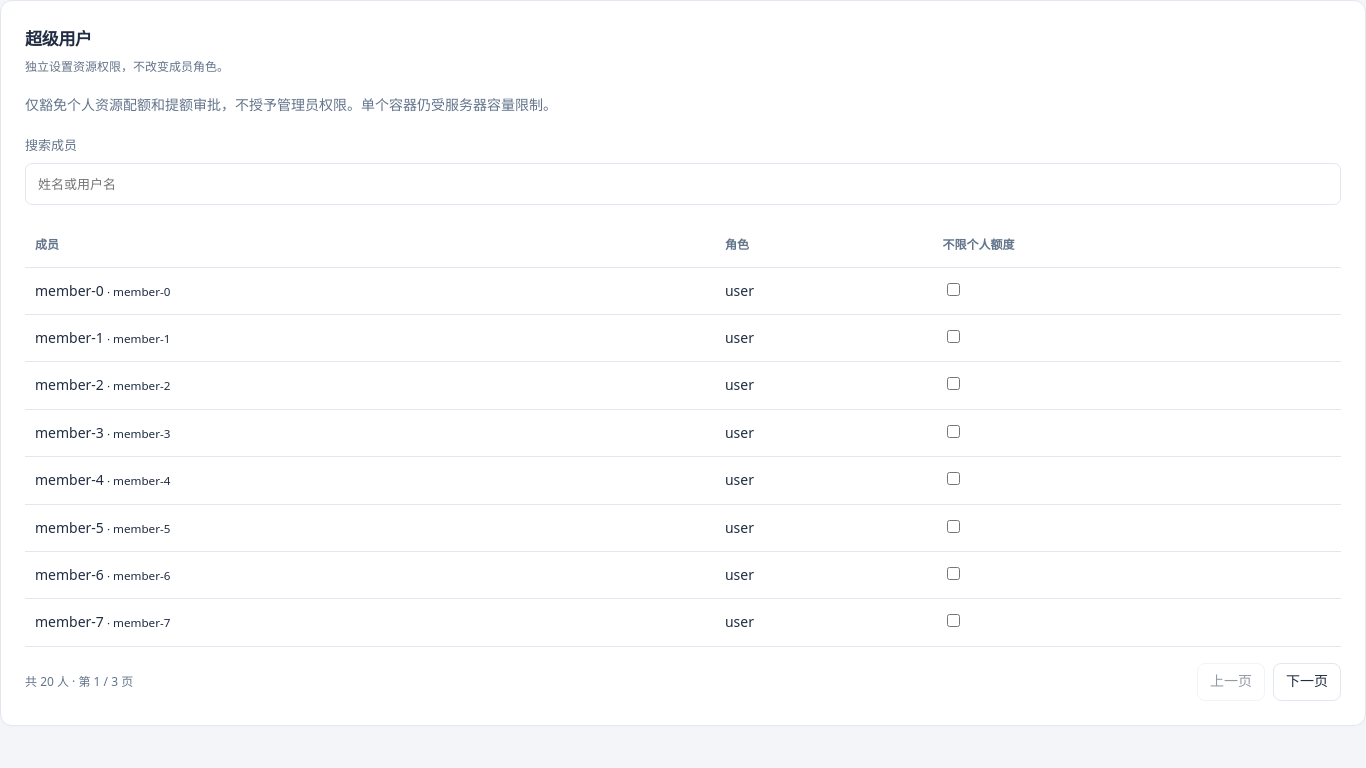
Test: superuser dialog searches across pages without rendering quota form
The image size is (1366, 768).
Check: the checkbox named "member-0超级用户" is shown, box [947, 282, 960, 296]
Click the button "下一页" at point(1307, 682), box [1273, 663, 1341, 701]
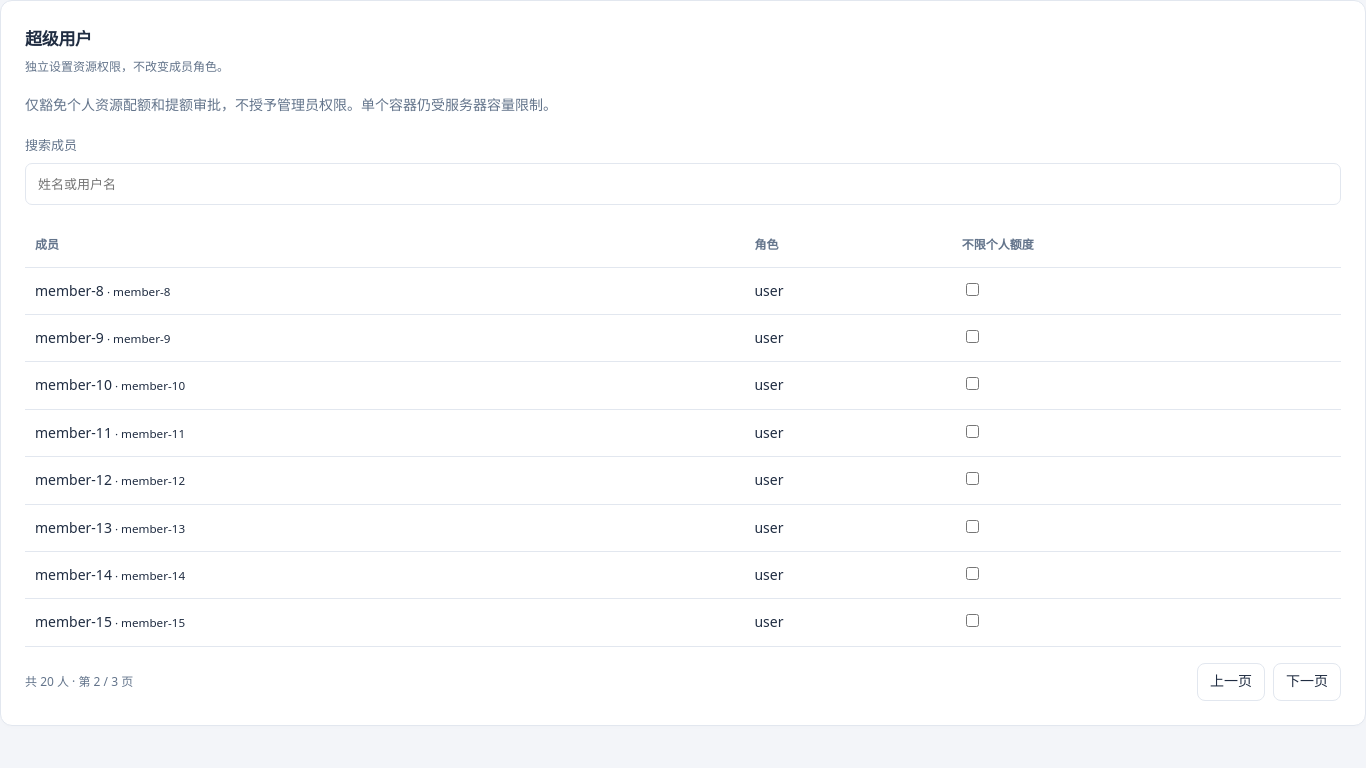
Check: the checkbox named "member-8超级用户" is shown, box [966, 282, 979, 296]
Type "member-19" into the search field labelled "搜索成员" at point(683, 184), box [25, 163, 1341, 205]
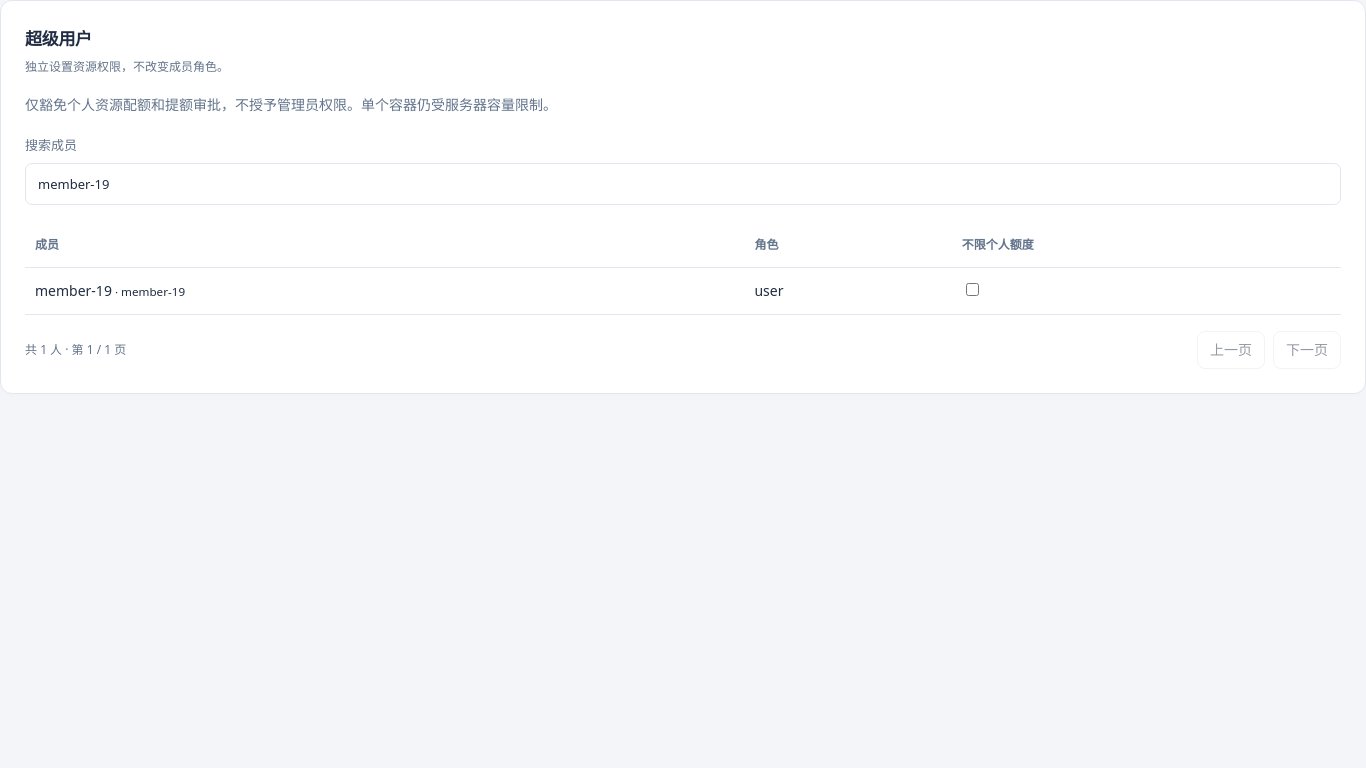
Check: the number of checkboxes is 1, box [966, 282, 979, 296]
